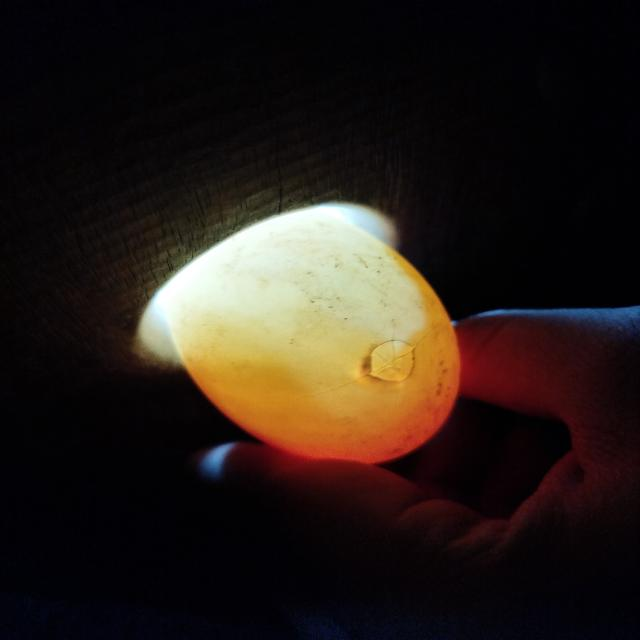Rachadura: (369, 340, 416, 382)
